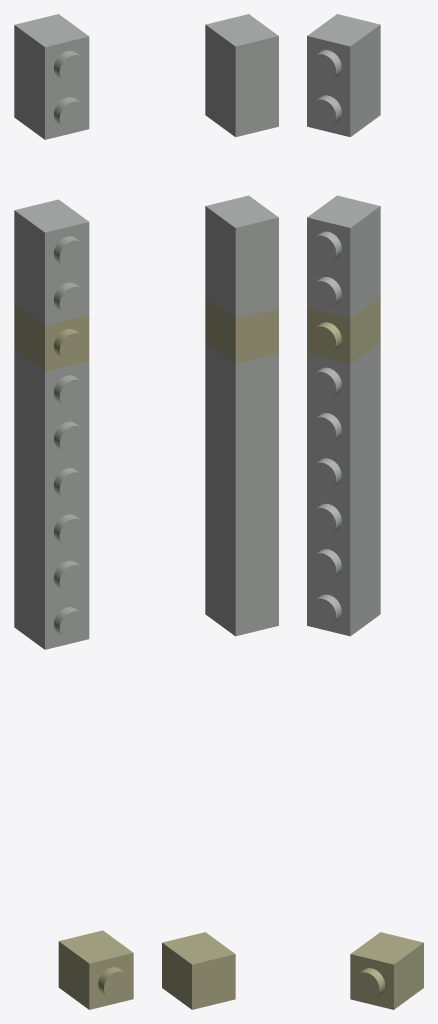
File: current.glb
3 renders of one model, left to right at view 1: azimuth 30°, elevation 25°; view 2: azimuth 210°, elevation 25°; view 3: azimuth 330°, elevation 25°, orthographic. The views are drawn at different scales.
Visible parts, largest first — view 1: world; view 2: world; view 3: world.
Boxes of the visible parts, x1,y1,x2,y2 form: world: (14,14,133,1009); world: (162,14,278,1009); world: (307,14,423,1009).
Bounding box in the file's own units: 16 × 168 × 11.4.
